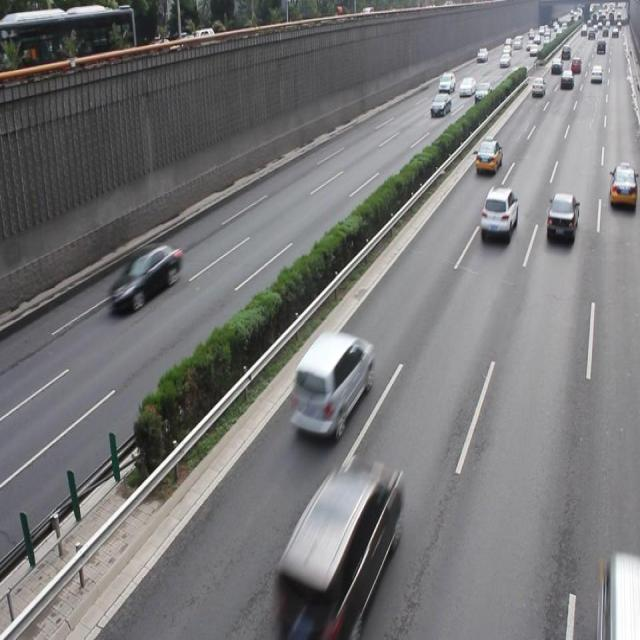car: (274, 452, 402, 640), (291, 330, 373, 431), (109, 241, 182, 310), (478, 186, 517, 241), (545, 192, 577, 242), (606, 165, 640, 211), (473, 138, 501, 177)
truck: (593, 552, 640, 640)
